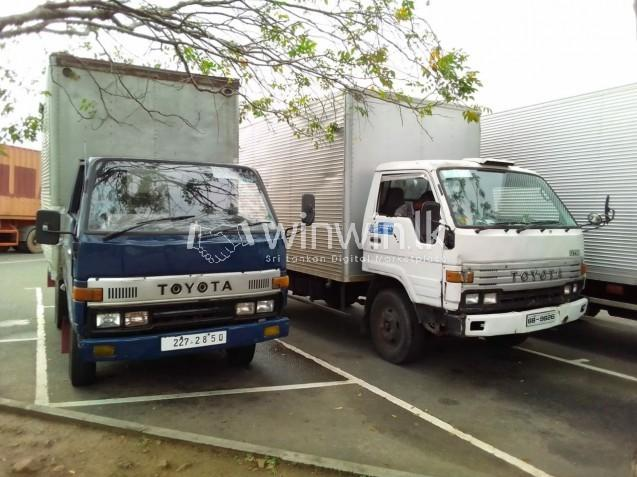truck: (239, 84, 613, 366), (35, 52, 315, 387)
